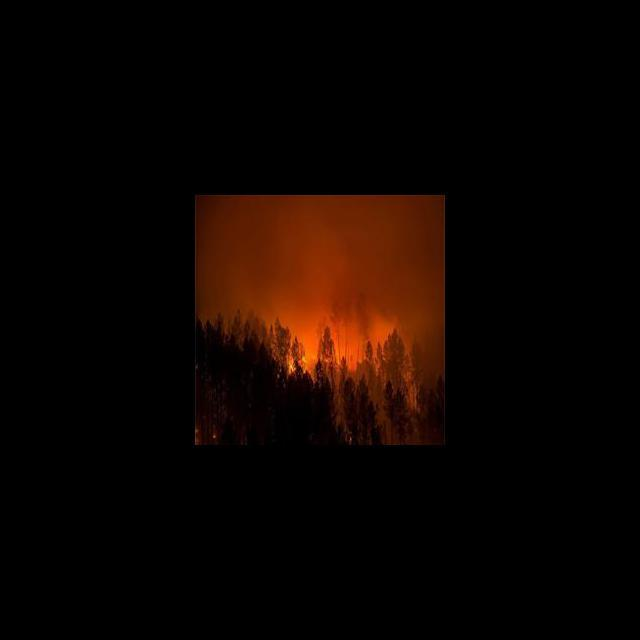Fire: (286, 328, 402, 381)
